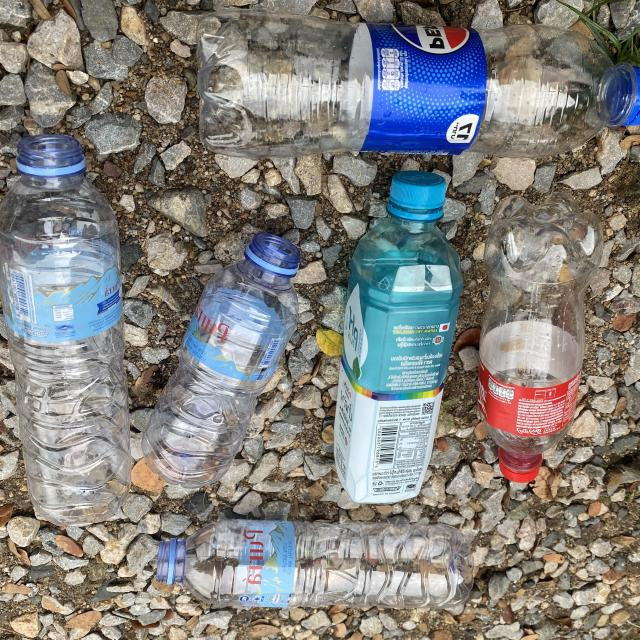plastik: (198, 9, 640, 158), (0, 134, 130, 525), (334, 172, 463, 503), (142, 233, 300, 489), (479, 192, 604, 482), (156, 519, 472, 607)
